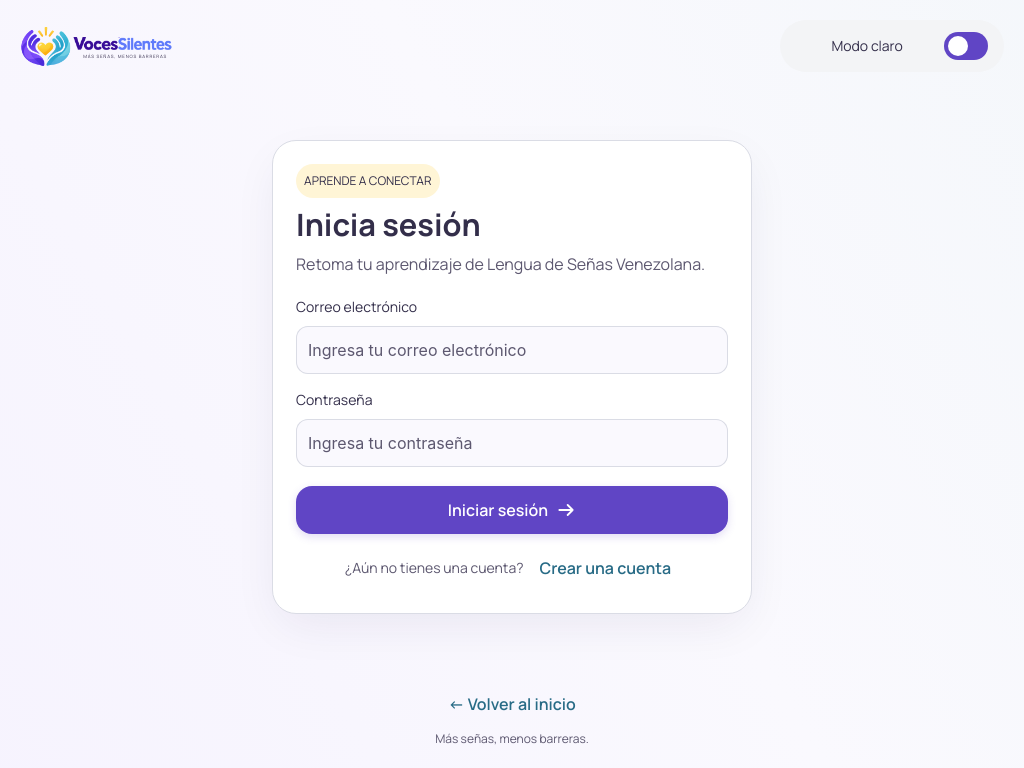
Test case: 429 usa Retry-After: espera sin repetir automáticamente ni permitir duplicados
In the field labelled "Correo electrónico": (512, 350) [308,338,716,362], type "person@example.com"
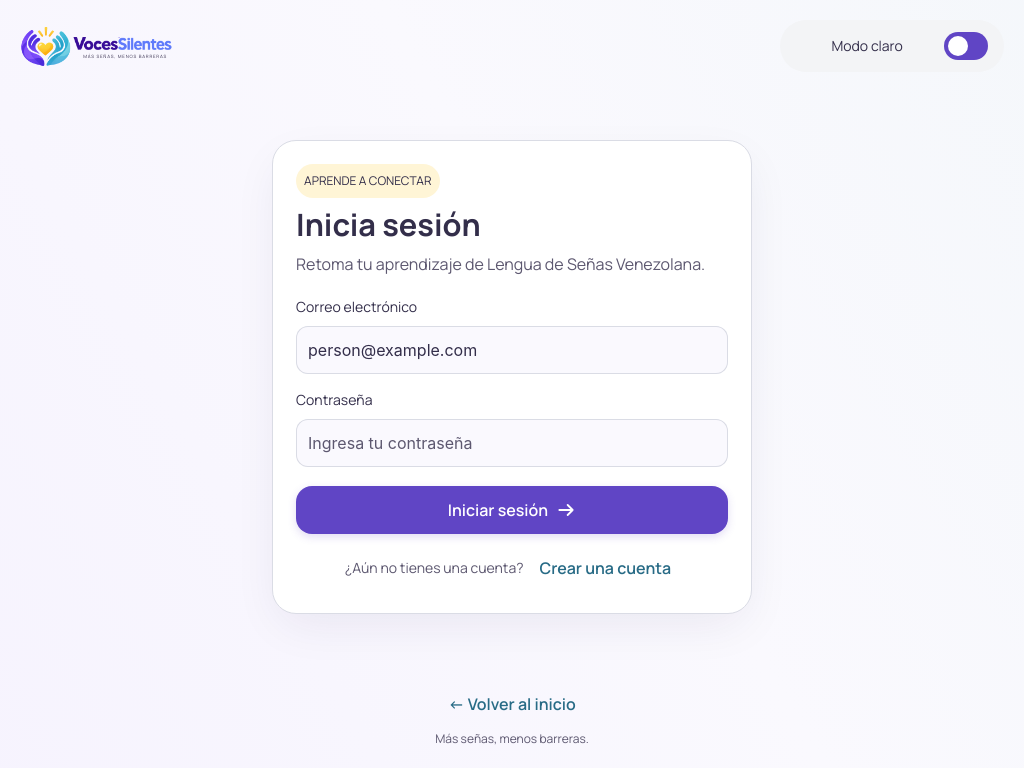
In the password field labelled "Contraseña": (491, 443) [308,431,674,455], type "a"
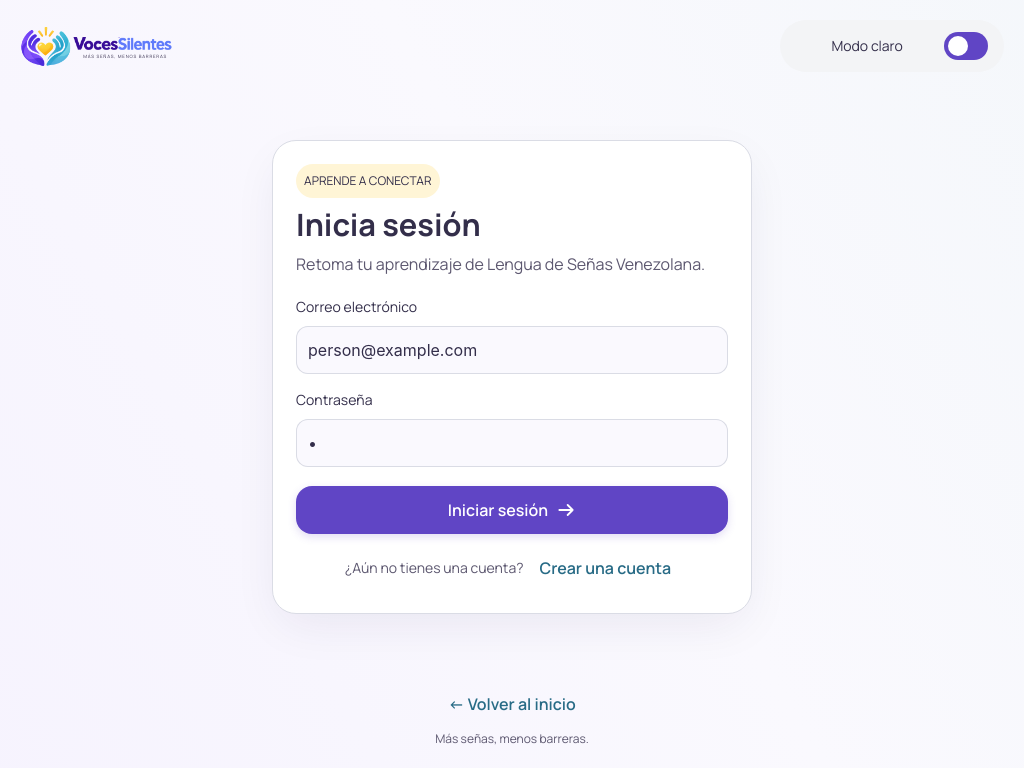
Submit the form "Inicia sesión", box [272,140,752,614]
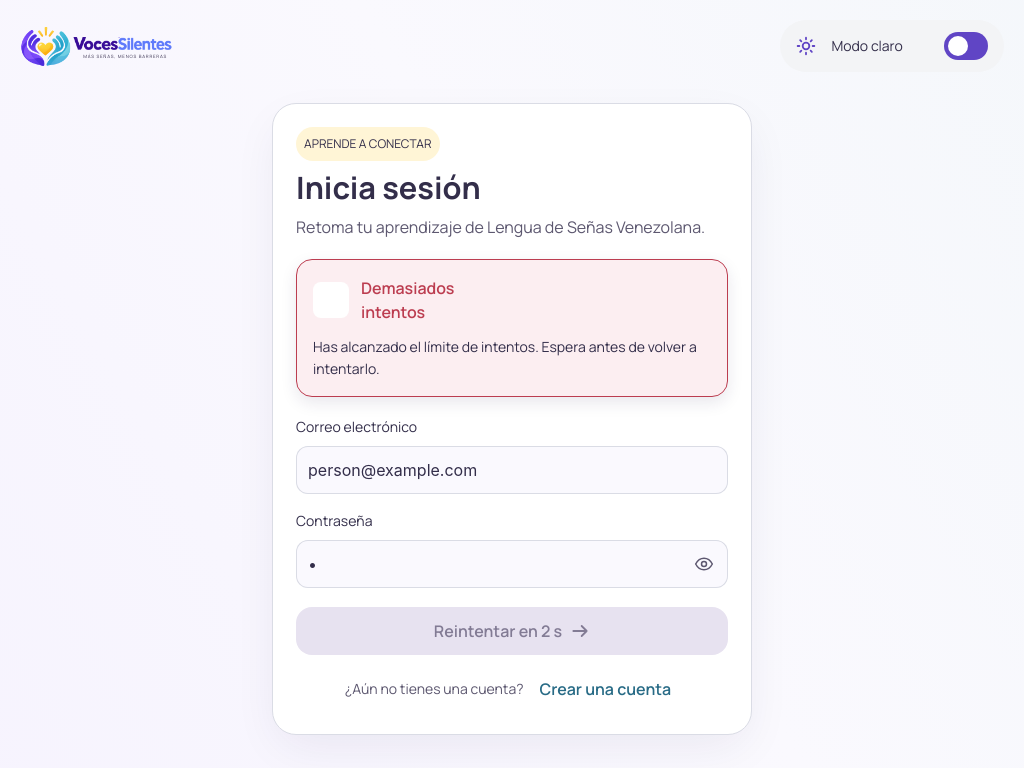
Now the message shows "Demasiados intentos", box [361,277,454,323]
Now the button "Reintentar en 2 s" is disabled, box [296,607,728,655]
Submit the form "Inicia sesión", box [272,103,752,735]
Wait 2000 ms
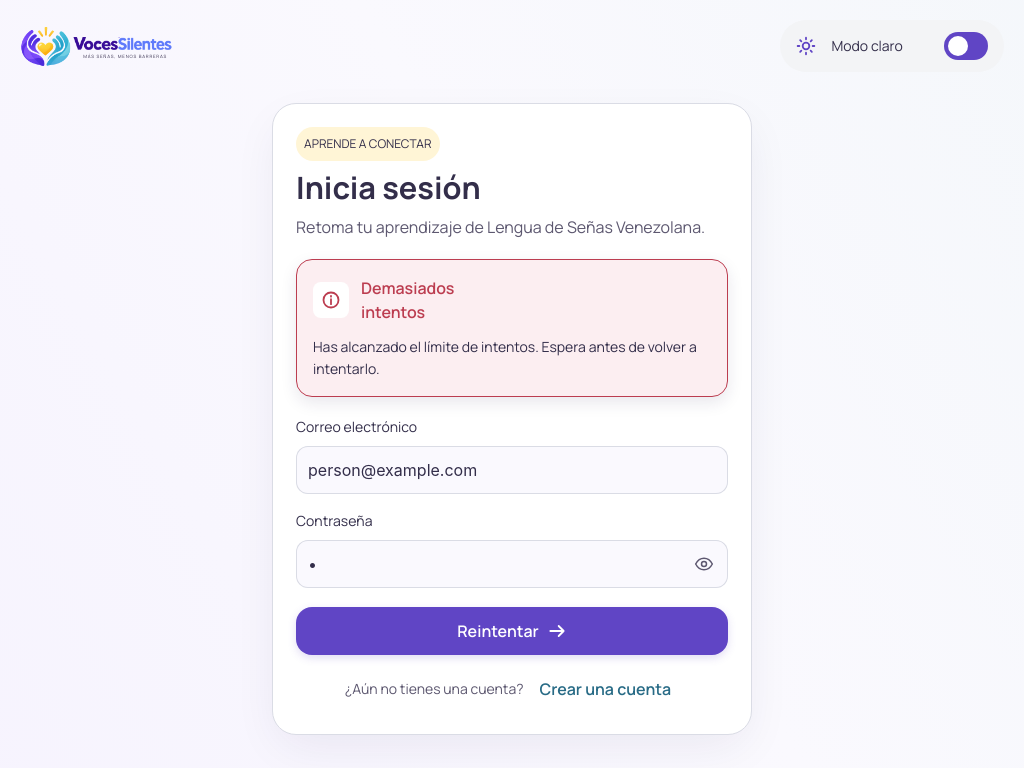
Now the button "Reintentar" is enabled, box [296,607,728,655]
